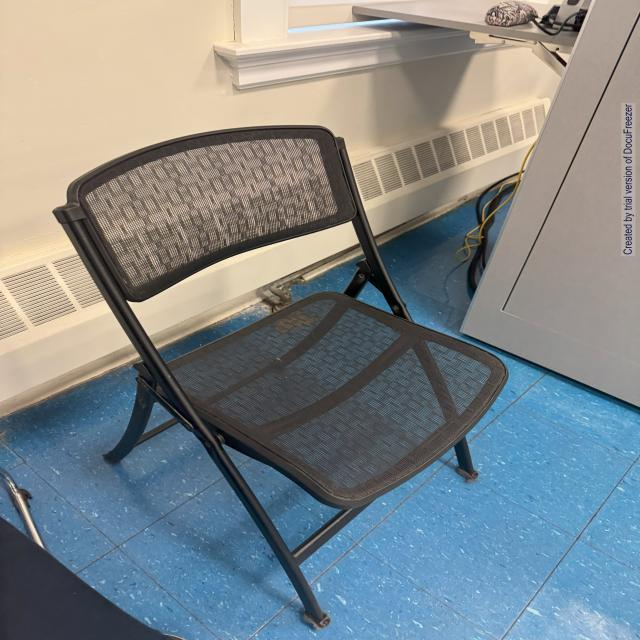chair: (53, 109, 549, 640)
